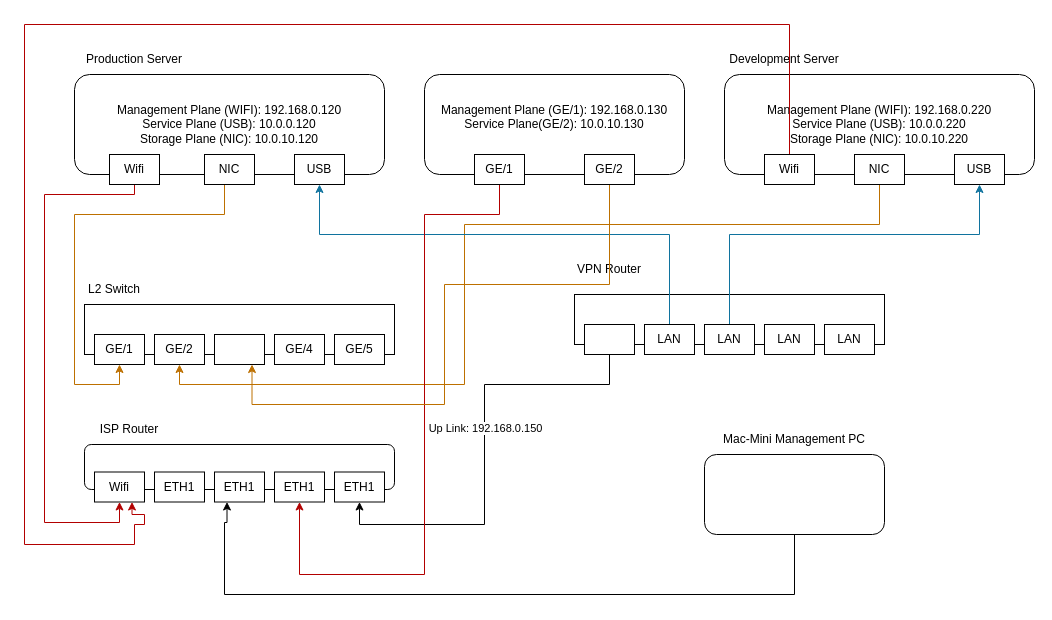
Image size: 1052x620. Some labels were removed from this diagram. The centre of each missing label's shape, as x and y in pixels:
GE/3: the point at 239,349
WAN: the point at 609,339
